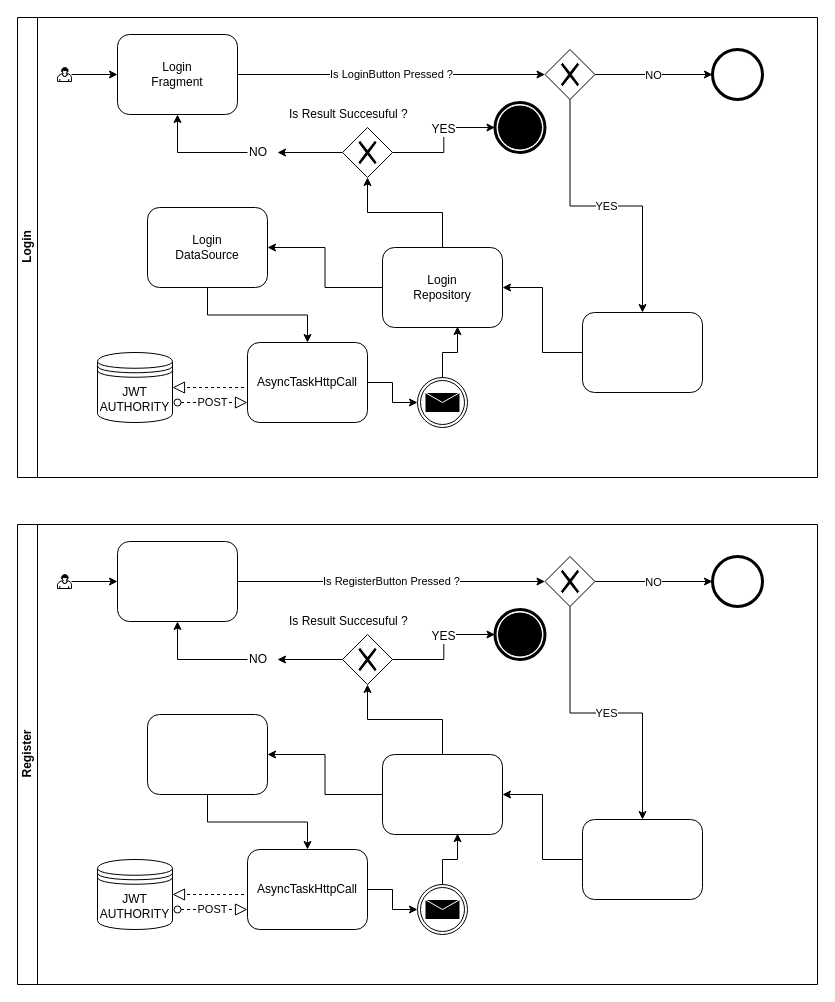
Some shapes in this 835 by 1002 pixel diagram are drawn without their labels. The shapes that lost their labels are listed below. From the top down, each one's centre as x and y in pixels, then its label:
At point (642, 352): "Login ViewModel".
At point (177, 581): "Register Fragment".
At point (207, 754): "Register DataSource".
At point (442, 794): "Register Repository".
At point (642, 859): "Register ViewModel".
